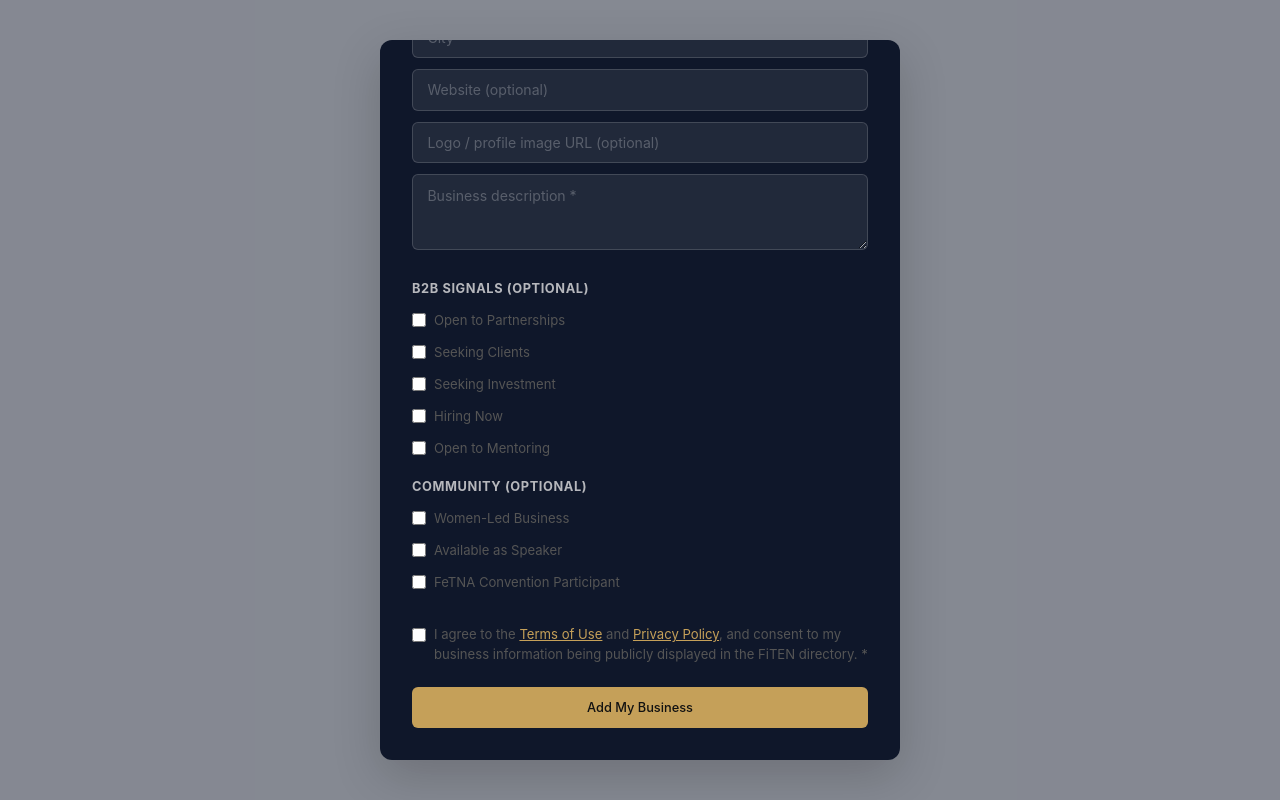
Test: AddBusinessModal — validation › shows error when required fields are empty on submit
(page scrolled)
Click the button "Add My Business" at (640, 707), box [412,687,868,728]
(page scrolled)
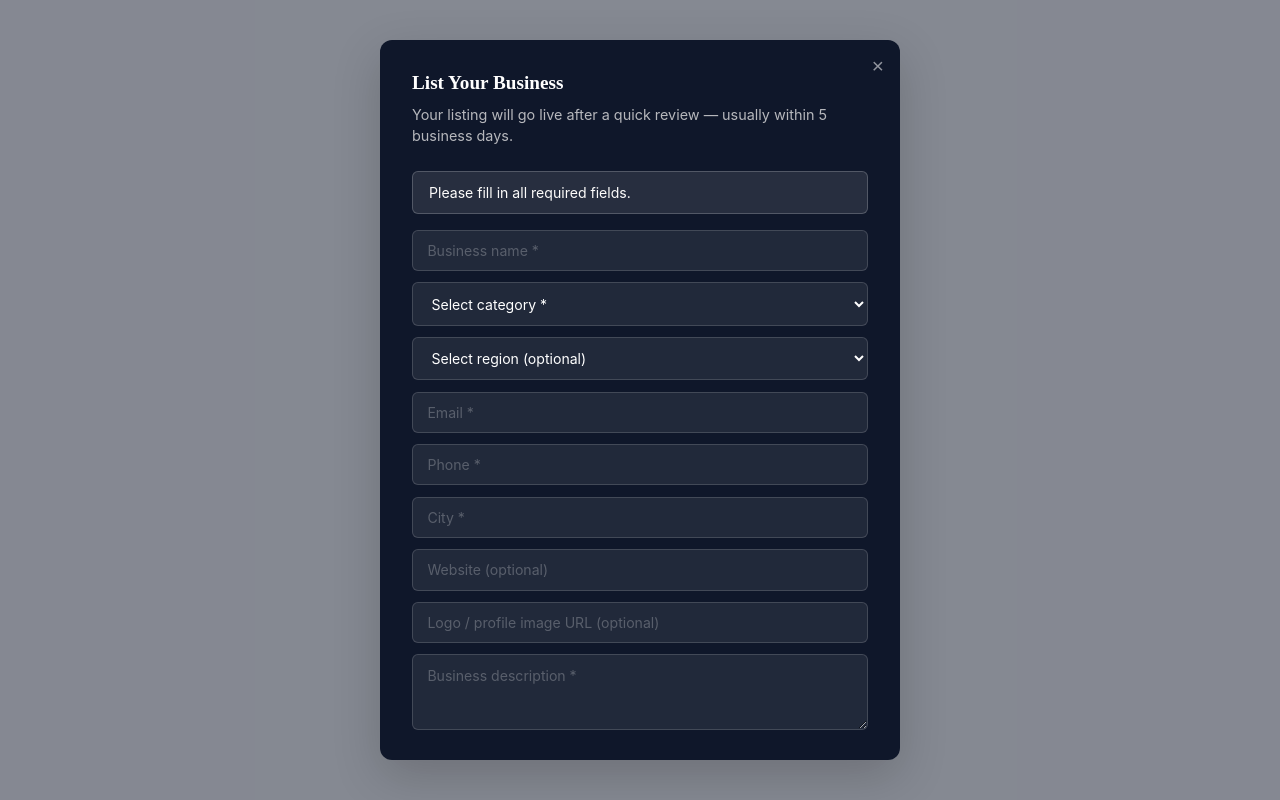
Check: the text "Please fill in all required fields." is shown, box [412,171,868,214]
